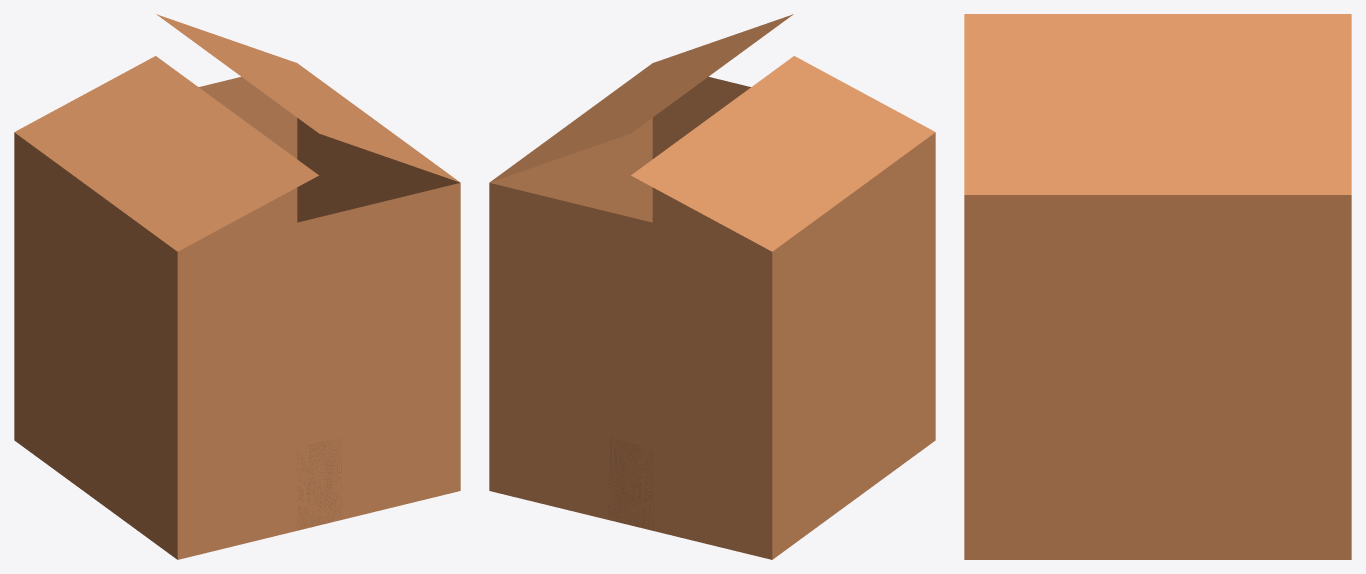
Rendered from cardboardBoxClosed.obj.
3 renders of one model, left to right at view 1: azimuth 30°, elevation 25°; view 2: azimuth 150°, elevation 25°; view 3: azimuth 270°, elevation 25°, orthographic. The views are drawn at different scales.
Visible parts, largest first — view 1: cardboardBoxClosed; view 2: cardboardBoxClosed; view 3: cardboardBoxClosed.
Part boxes in pixels (x1,y1,x2,y2): cardboardBoxClosed: [14, 14, 460, 559]; cardboardBoxClosed: [489, 14, 935, 559]; cardboardBoxClosed: [964, 14, 1351, 559].
Size of the model in its own units: 0.2125 by 0.281 by 0.2125.
